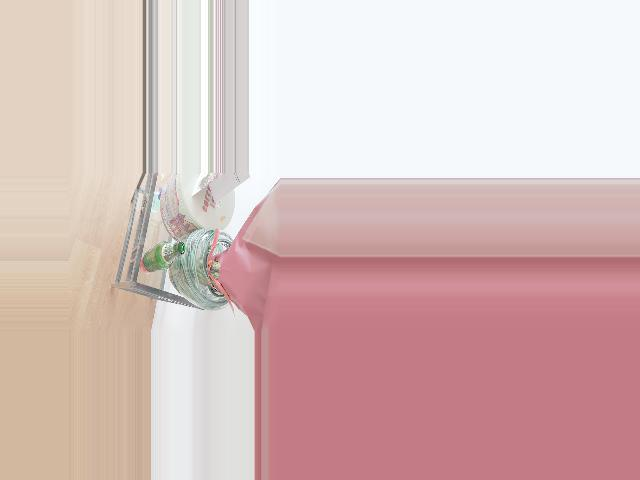beer: (142, 241, 184, 273)
